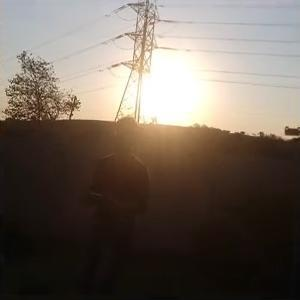follow: (78, 112, 155, 298)
